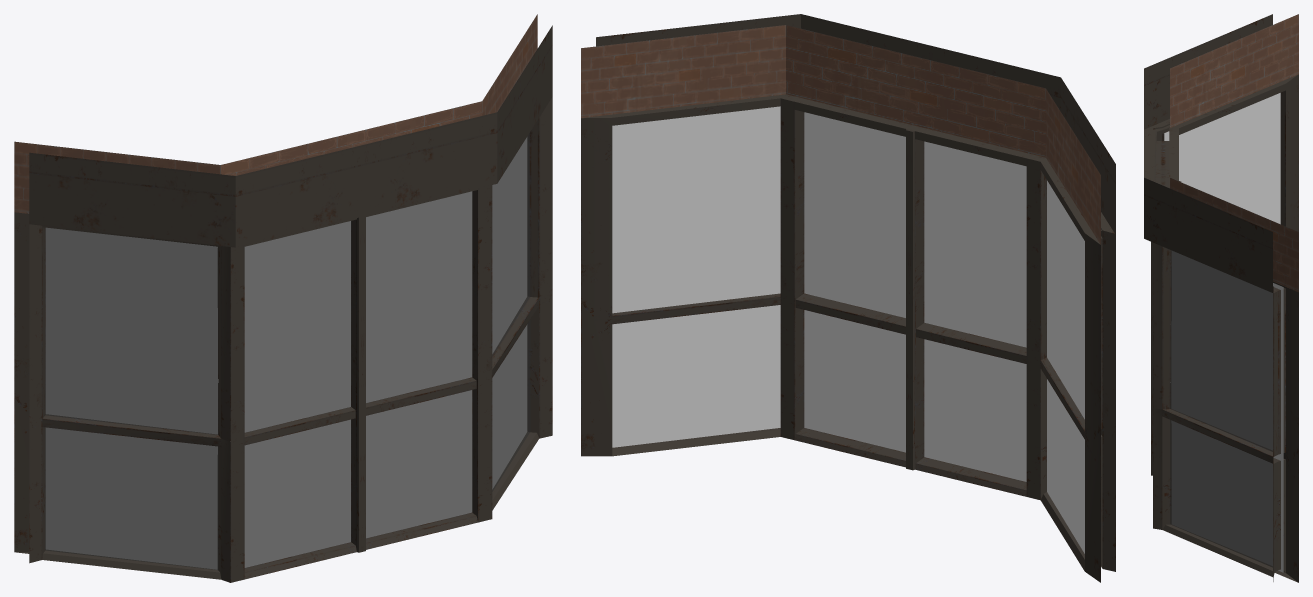
File: Metal_BayWindow_Bottom.gltf
3 views of the same model, side by side, from view 1: azimuth 30°, elevation 25°; view 2: azimuth 150°, elevation 25°; view 3: azimuth 270°, elevation 25° (orthographic). The views are drawn at different scales.
Visible parts, largest first — view 1: Metal_BayWindow_Bottom; view 2: Metal_BayWindow_Bottom; view 3: Metal_BayWindow_Bottom.
Boxes of the visible parts, x1=… form: Metal_BayWindow_Bottom: x1=14, y1=14, x2=552, y2=582; Metal_BayWindow_Bottom: x1=581, y1=14, x2=1115, y2=582; Metal_BayWindow_Bottom: x1=1144, y1=14, x2=1298, y2=582.
Bounding box in the file's own units: 4 × 3 × 1.2.
Materials: 4 (2 with a texture image).
